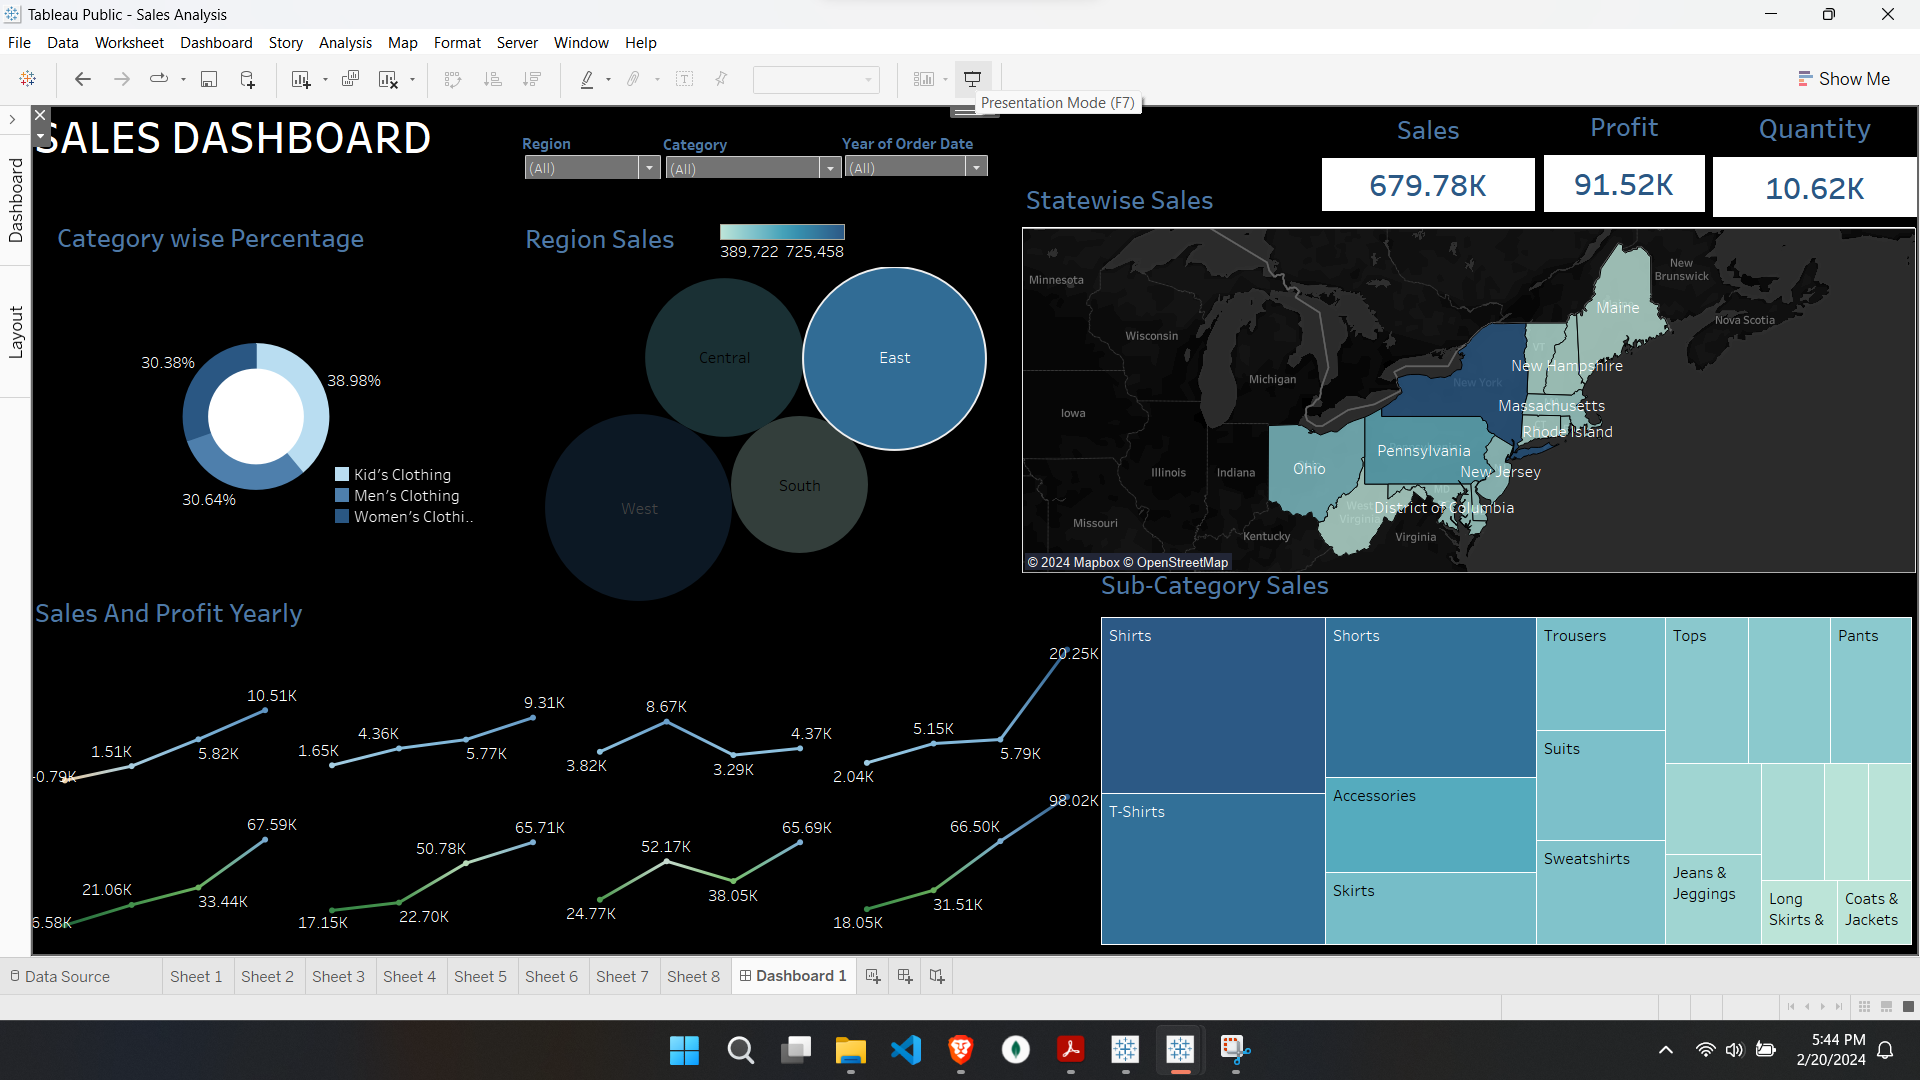

Layout of this report page (visuals, bound fields, positions):
{"tool":"tableau","page":{"name":"Dashboard 1","canvas":[1000,1000],"units":"permille","ordinal":0},"visuals":[{"type":"blank","box":[0,0,1000,1000]},{"type":"worksheet","title":"Sheet 3","mark":"Automatic","box":[801.2,0,85.3,126.1]},{"type":"worksheet","title":"Sheet 4","mark":"Automatic","box":[891.1,0,108.2,131.6]},{"type":"worksheet","title":"Sheet 2","mark":"Automatic","box":[683.9,3.7,112.7,120.7]},{"type":"text","box":[0,5.9,245,59.9]},{"type":"filter","title":"Sheet 3","param":"[federated.02s150b0oq98tg15a1gx214efzrz].[none:Region:nk]","box":[260.1,32.9,75.4,54.1]},{"type":"filter","title":"Sheet 8","param":"[federated.02s150b0oq98tg15a1gx214efzrz].[yr:Order Date:ok]","box":[429.6,32.9,78.9,50.5]},{"type":"filter","title":"Sheet 2","param":"[federated.02s150b0oq98tg15a1gx214efzrz].[none:Category:nk]","box":[334.9,34.1,96.6,51.7]},{"type":"worksheet","title":"Sheet 6","mark":"Automatic","box":[524.8,85.9,473.7,464.4]},{"type":"legend","title":"Sheet 1","param":"[federated.02s150b0oq98tg15a1gx214efzrz].[sum:Sales:qk]","box":[362.7,109.3,70.6,70.5]},{"type":"worksheet","title":"Sheet 7","mark":"Pie","rows":["Calculation_604326818627776520","Calculation_604326818627797002"],"box":[11.5,130.4,214.8,412.5]},{"type":"worksheet","title":"Sheet 1","mark":"Circle","box":[259.5,131.6,258.3,451.2]},{"type":"legend","title":"Sheet 7","param":"[federated.02s150b0oq98tg15a1gx214efzrz].[none:Category:nk]","box":[159.3,396,77.9,99.9]},{"type":"worksheet","title":"Sheet 5","mark":"Automatic","box":[564.9,538.2,433.3,453.6]},{"type":"worksheet","title":"Sheet 8","mark":"Automatic","rows":["Profit","Sales"],"cols":["Order Date","Order Date"],"box":[0,571.1,566.1,403.1]}]}

Visuals, with their boxes on the dashboard's canvas, which has no fixed pixel size, in thousandths of its width and height (x1, y1, x2, y2). These are canvas units, not pixel positions in the 1920x1080 screenshot, which may show the page scaled, cropped or inside an application window:
blank: locate(0, 0, 1000, 1000)
"Sheet 3" worksheet: locate(801, 0, 886, 126)
"Sheet 4" worksheet: locate(891, 0, 999, 132)
"Sheet 2" worksheet: locate(684, 4, 797, 124)
text: locate(0, 6, 245, 66)
"Sheet 3" filter: locate(260, 33, 336, 87)
"Sheet 8" filter: locate(430, 33, 508, 83)
"Sheet 2" filter: locate(335, 34, 432, 86)
"Sheet 6" worksheet: locate(525, 86, 998, 550)
"Sheet 1" legend: locate(363, 109, 433, 180)
"Sheet 7" worksheet (Pie marks): locate(12, 130, 226, 543)
"Sheet 1" worksheet (Circle marks): locate(260, 132, 518, 583)
"Sheet 7" legend: locate(159, 396, 237, 496)
"Sheet 5" worksheet: locate(565, 538, 998, 992)
"Sheet 8" worksheet: locate(0, 571, 566, 974)
